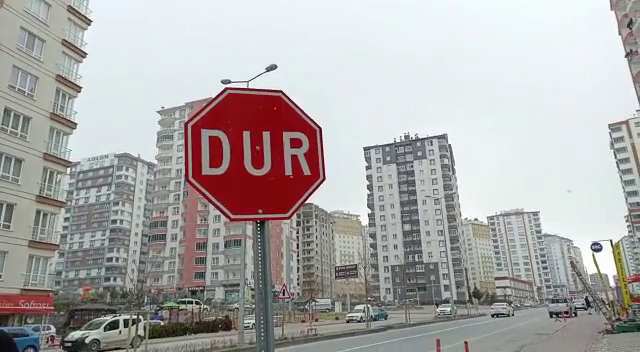stop: (182, 85, 328, 223)
